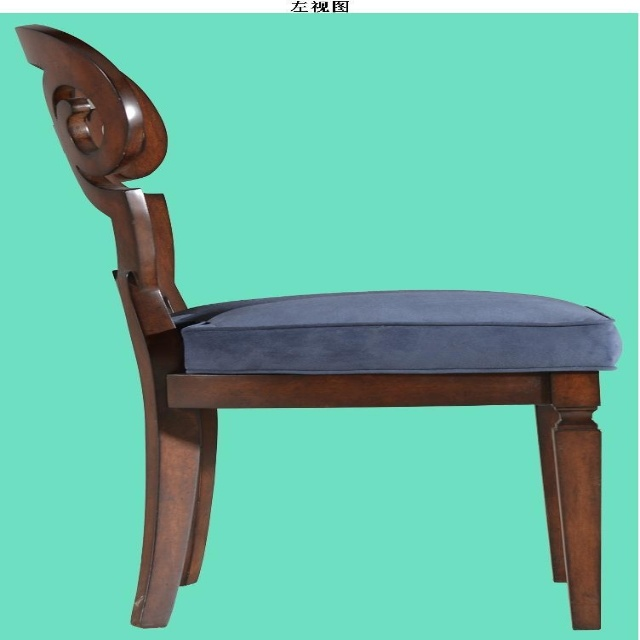obstacle: (17, 25, 617, 629)
